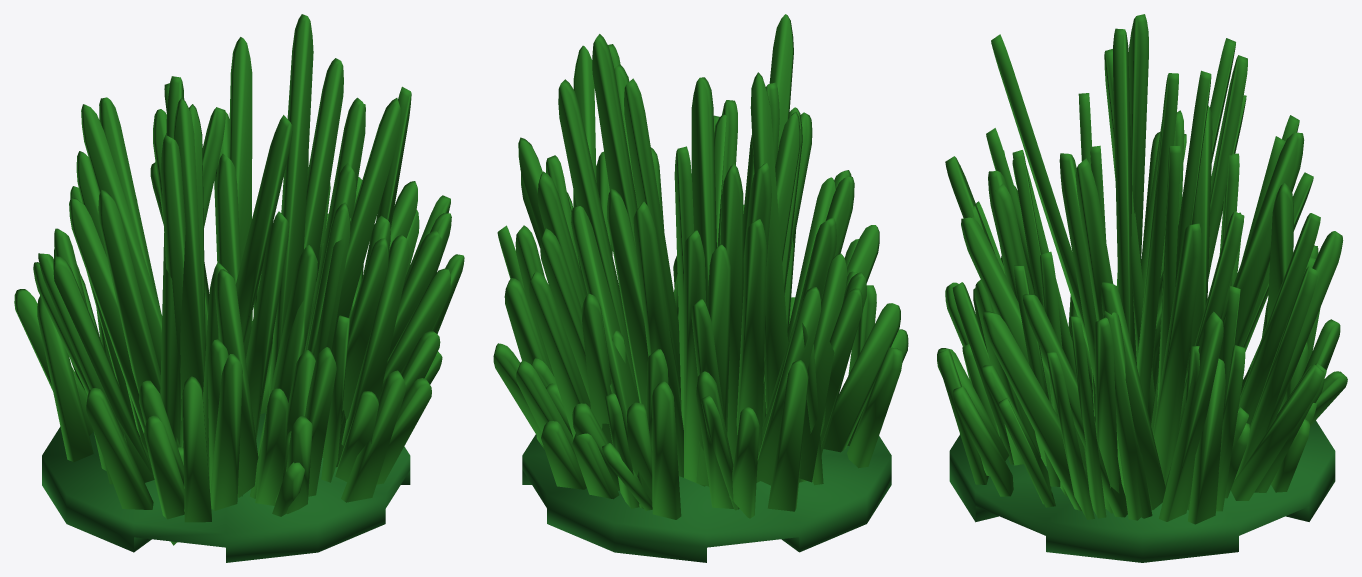
Rendered from DestroyedBush.fbx.
3 views of the same model, side by side, from view 1: azimuth 30°, elevation 25°; view 2: azimuth 150°, elevation 25°; view 3: azimuth 270°, elevation 25° (orthographic). The views are drawn at different scales.
Visible parts, largest first — view 1: Cube.066, Cube.002; view 2: Cube.066, Cube.002; view 3: Cube.066, Cube.002.
Part boxes in pixels (bbox=[...]): Cube.066: bbox=[14, 14, 464, 545]; Cube.002: bbox=[42, 413, 410, 562]; Cube.066: bbox=[493, 14, 908, 519]; Cube.002: bbox=[522, 434, 891, 562]; Cube.066: bbox=[937, 14, 1347, 524]; Cube.002: bbox=[949, 395, 1335, 562].
Size of the model in its own units: 383 by 432 by 344.
